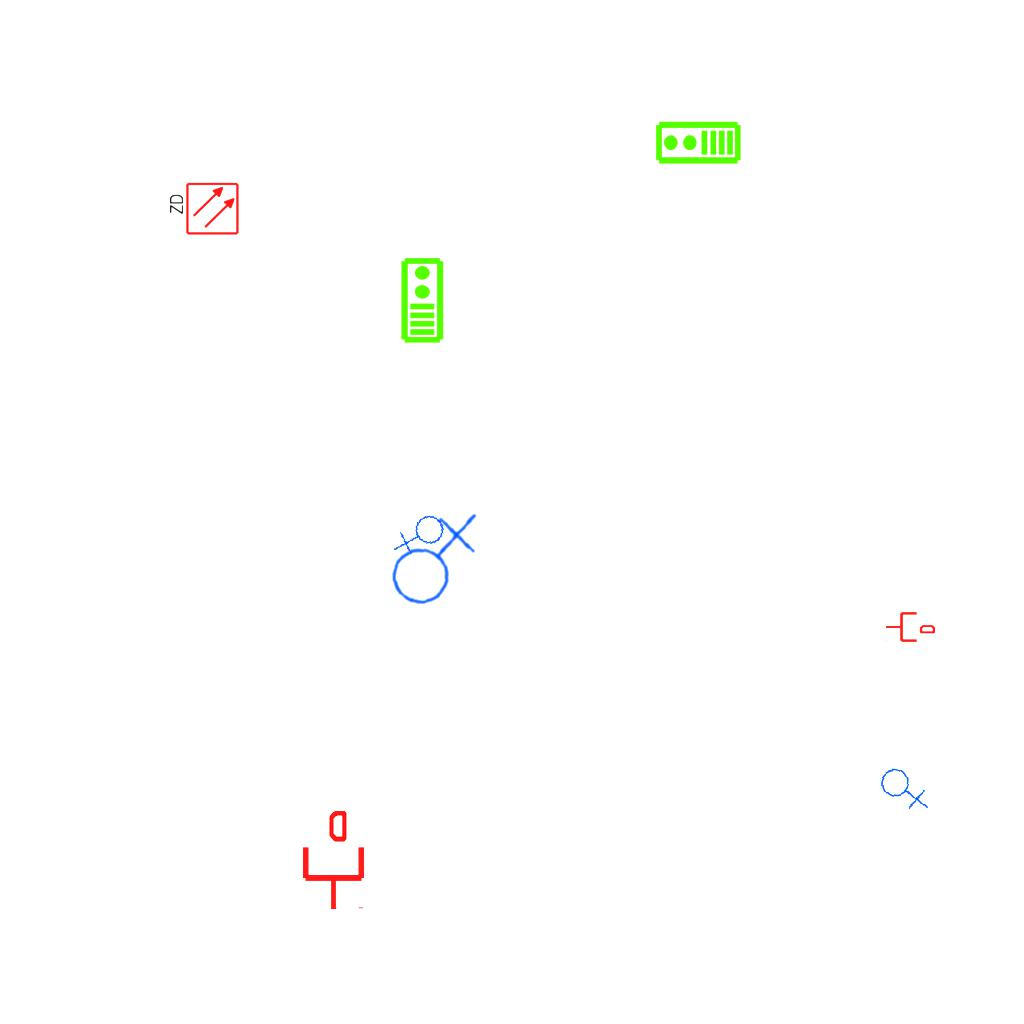Datenanschluss_einfach: (299, 811, 368, 911), (885, 610, 935, 644)
Elektroanschluss_allgemein_230V_Geraeteanschlussdose_230V: (378, 507, 485, 609), (391, 507, 452, 566), (877, 759, 932, 816)
Gegensprechanlage_mit_Video: (398, 256, 445, 344), (654, 120, 742, 167)
ZD_Melder_in_Zwischendecke_mit_Revisionsoeffnung_mind_40_x_40_cm: (166, 181, 240, 238)
